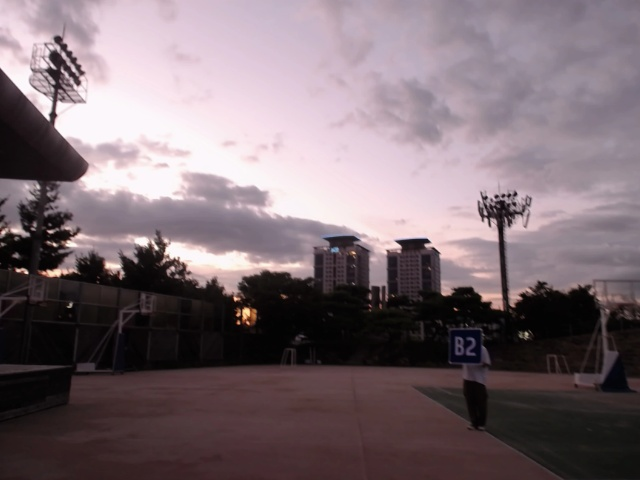delivery_b2: (447, 327, 483, 366)
